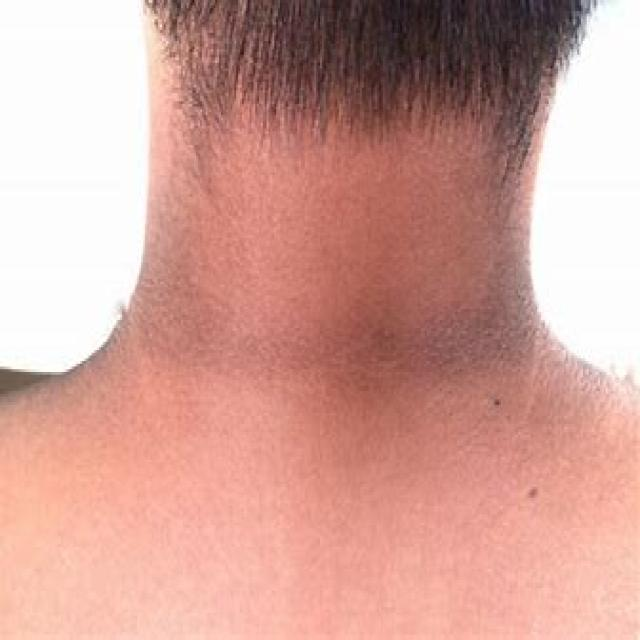Acanthosis Nigricans: (40, 231, 610, 509)
